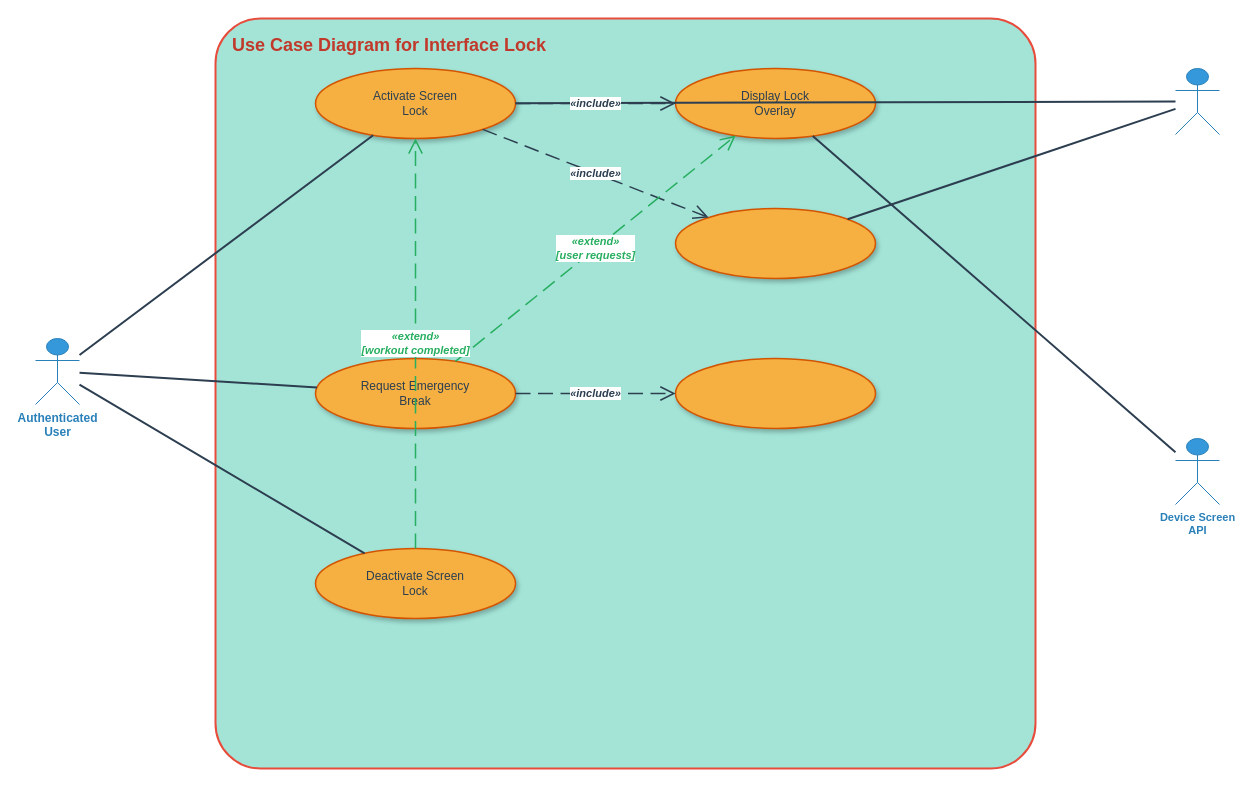
The diagram is 1254 pixels wide and 786 high, and some of its shapes have lost their labels. Here are the shapes that lost their labels. From the top down, the centre of each, then its label:
the point at 1197,101: System Trigger
the point at 776,244: Send Balance Warnings
the point at 776,394: Start Emergency Break Timer
